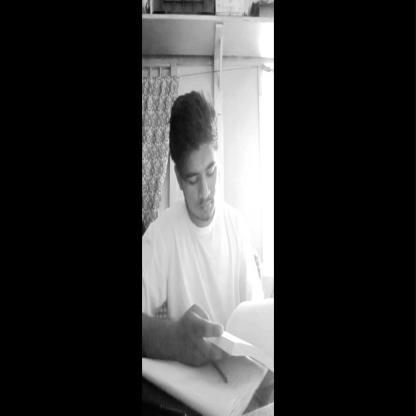Distracted: (169, 92, 226, 229)
